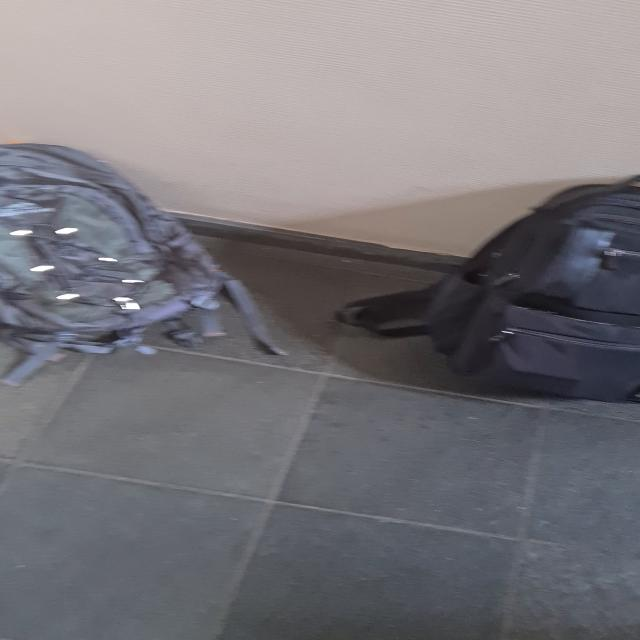backpack: (0, 135, 258, 367), (410, 172, 640, 392)
